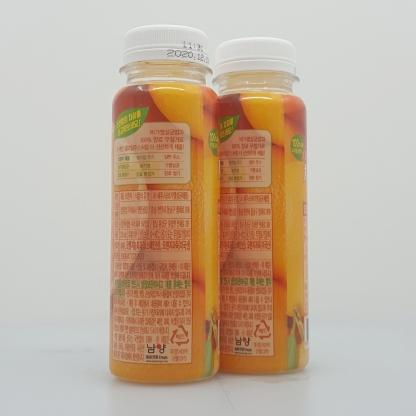--------210ML: (109, 24, 220, 384), (207, 37, 309, 375)
